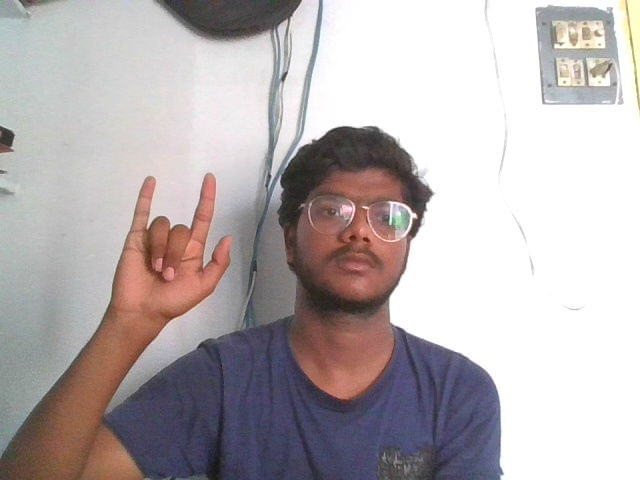IloveYou: (108, 170, 237, 320)
